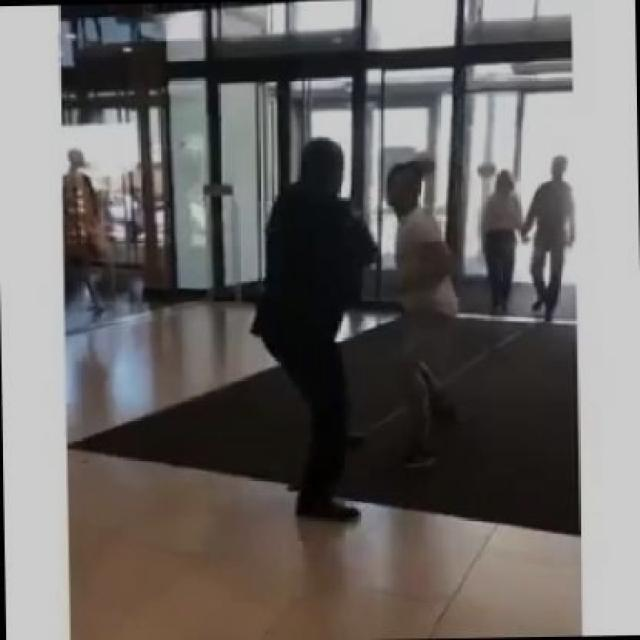fight: (217, 114, 495, 540)
non-fight: (524, 146, 577, 324), (469, 168, 531, 320)
